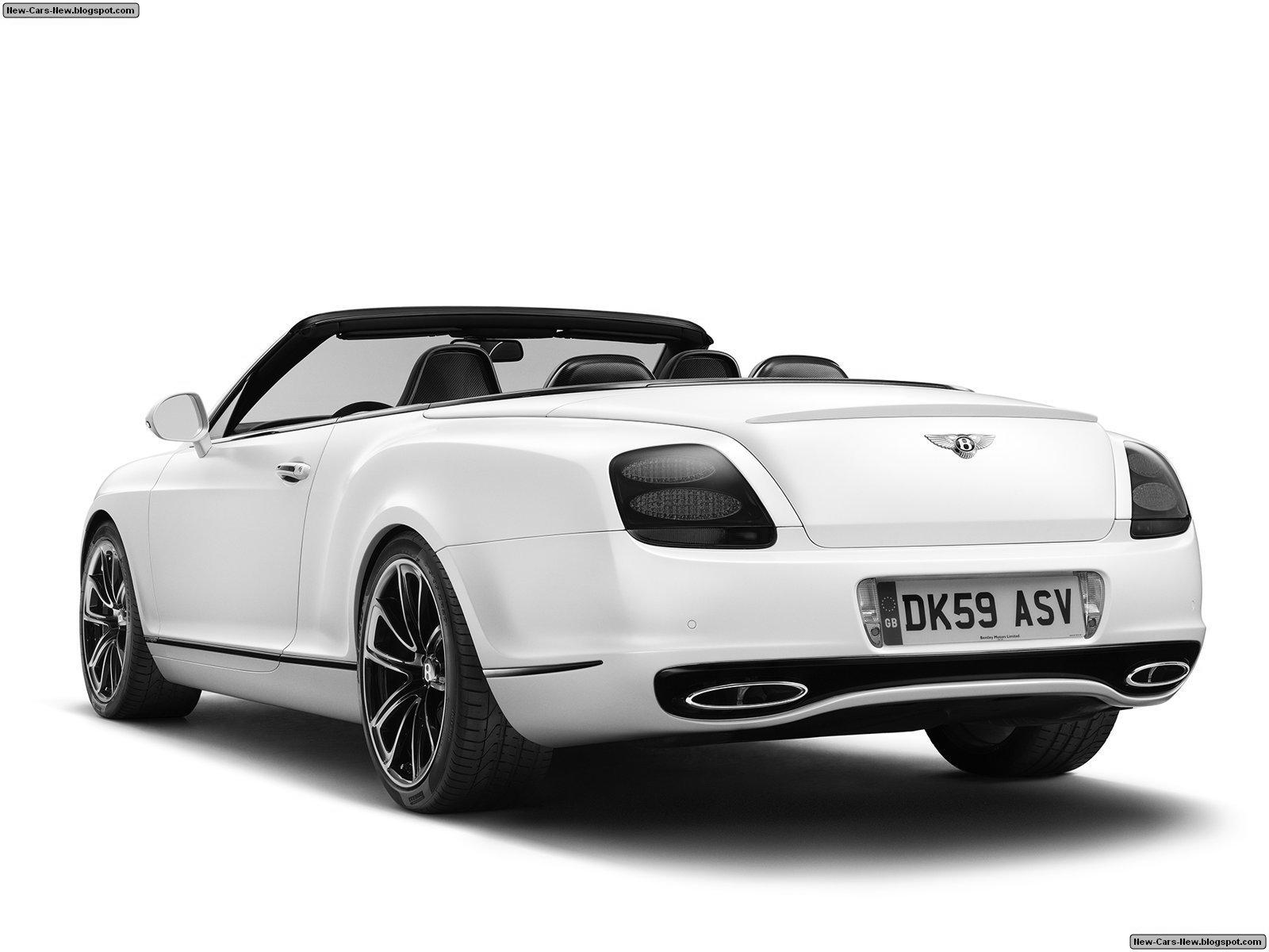car: (75, 303, 1214, 822)
